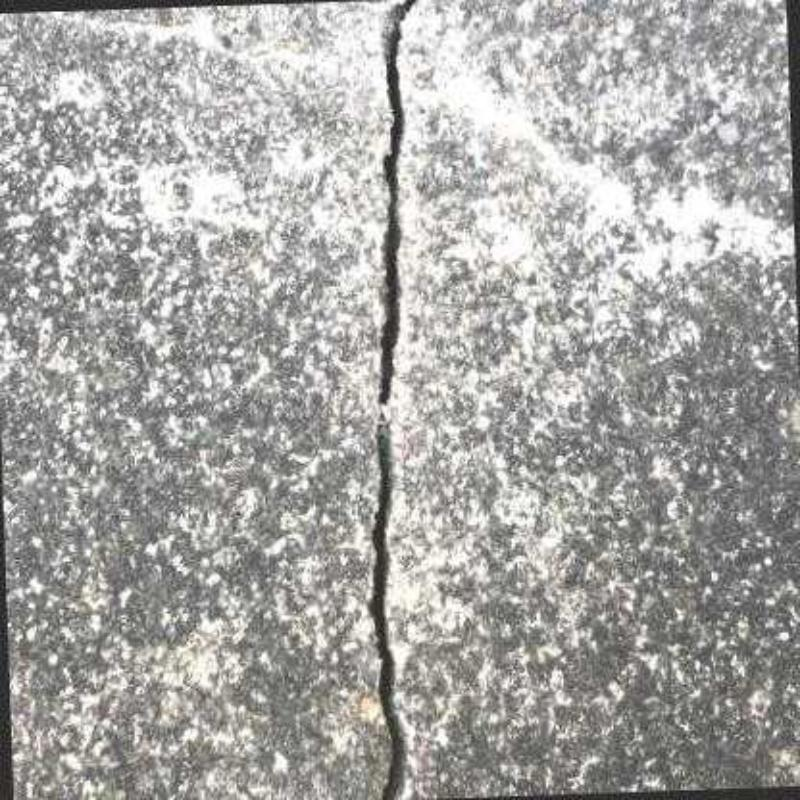pothole: (369, 1, 415, 799)
